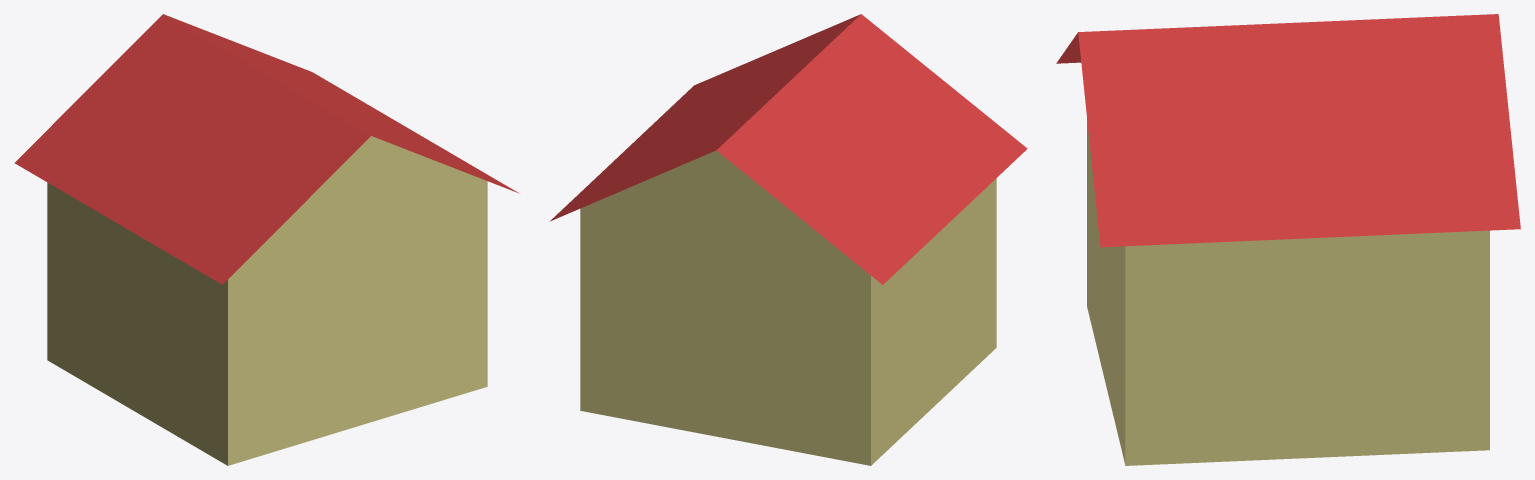
3 views of the same model, side by side, from view 1: azimuth 30°, elevation 25°; view 2: azimuth 150°, elevation 25°; view 3: azimuth 270°, elevation 25° (orthographic). The views are drawn at different scales.
Size of the model in its own units: 12.77 by 12.43 by 10.47.
